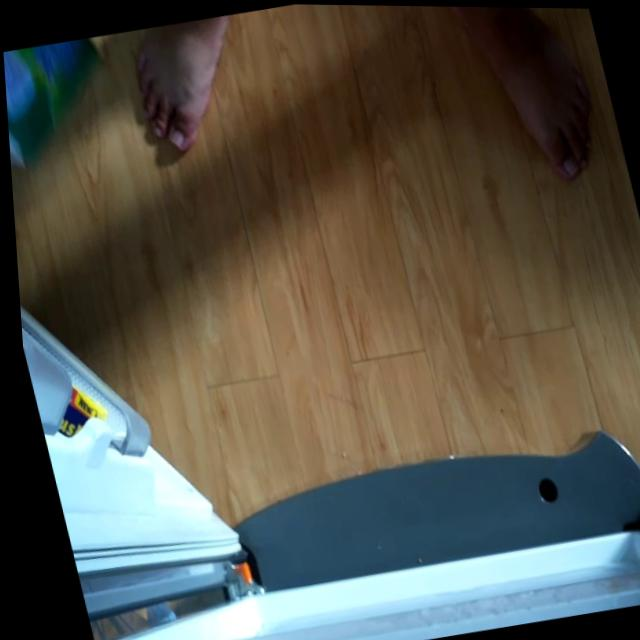milk: (2, 35, 122, 172)
